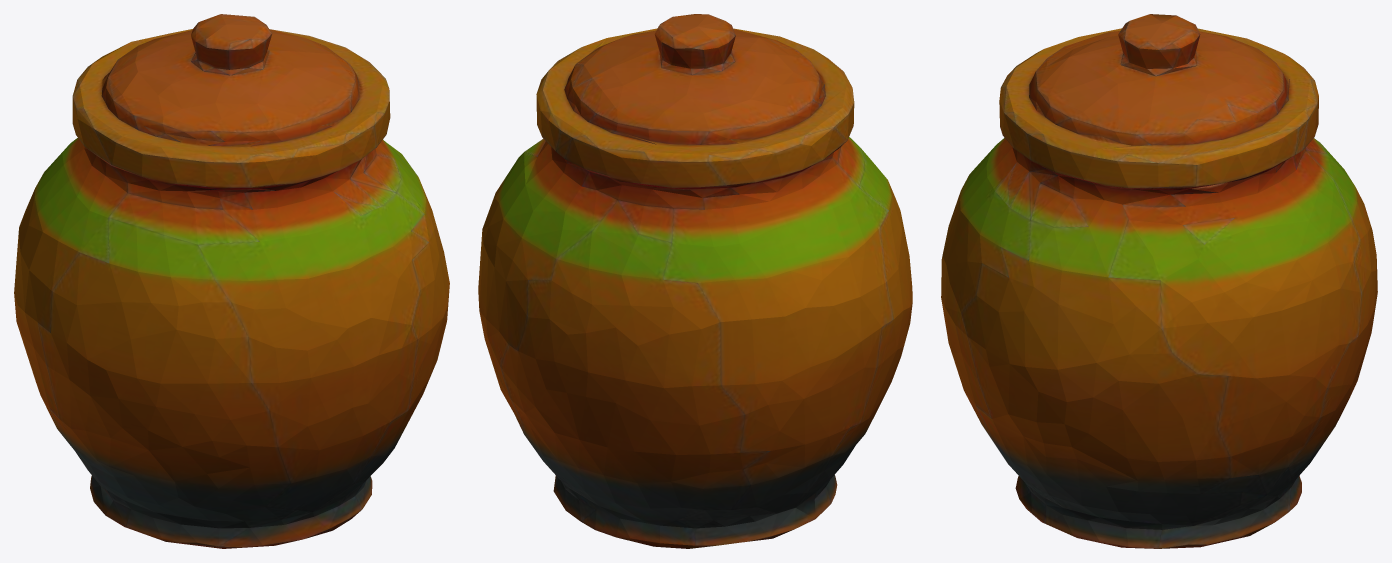
Rendered from urn_drowned.glb.
3 views of the same model, side by side, from view 1: azimuth 30°, elevation 25°; view 2: azimuth 150°, elevation 25°; view 3: azimuth 270°, elevation 25° (orthographic).
Visible parts, largest first — view 1: tripo_node_39622898-a255-4a9a-82e6-ae1f7f203b92.001; view 2: tripo_node_39622898-a255-4a9a-82e6-ae1f7f203b92.001; view 3: tripo_node_39622898-a255-4a9a-82e6-ae1f7f203b92.001.
Part boxes in pixels (box(x1,y1,x2,y2)): tripo_node_39622898-a255-4a9a-82e6-ae1f7f203b92.001: box(14, 14, 449, 548); tripo_node_39622898-a255-4a9a-82e6-ae1f7f203b92.001: box(478, 14, 912, 548); tripo_node_39622898-a255-4a9a-82e6-ae1f7f203b92.001: box(941, 14, 1377, 548).
Bounding box in the file's own units: 0.8504 × 1 × 0.848.
Materials: 1 (1 with a texture image).
